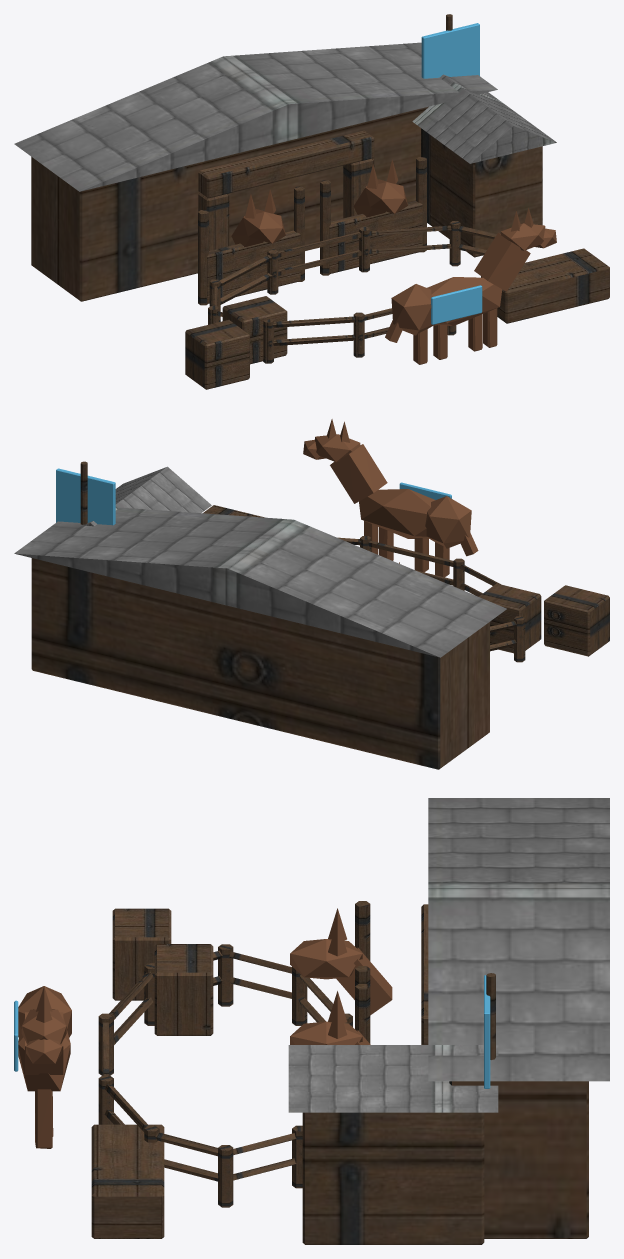
File: edificio-b_017-e3-C9i25BbP.glb
The picture shows the model from 3 angles, top to bottom: view 1: azimuth 30°, elevation 25°; view 2: azimuth 150°, elevation 25°; view 3: azimuth 270°, elevation 25°; orthographic projection. The views are drawn at different scales.
Parts seen in each view (by area): view 1: envolvente_establo, caballos_establo, team_color; view 2: envolvente_establo, caballos_establo, team_color; view 3: envolvente_establo, caballos_establo, team_color.
Part boxes in pixels (x1,y1,x2,y2): envolvente_establo: (14,14,609,389); caballos_establo: (231,159,556,364); team_color: (421,23,482,324); envolvente_establo: (14,461,609,769); caballos_establo: (303,419,478,577); team_color: (56,468,451,525); envolvente_establo: (91,798,609,1244); caballos_establo: (18,908,392,1148); team_color: (14,975,490,1088).
Bounding box in the file's own units: 49 × 20 × 42.66.
Materials: 3 (1 with a texture image).
